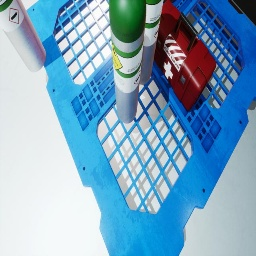0: (109, 0, 146, 124), (0, 0, 46, 72), (140, 0, 164, 85)
FirstAidBox ,: (154, 0, 216, 111)
NitrogenTank ,: (163, 0, 174, 3)
